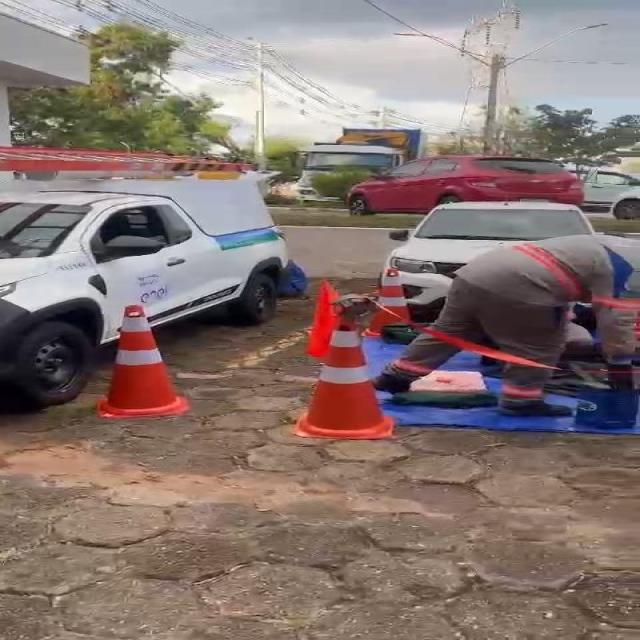Cone: (305, 314, 390, 442), (102, 302, 190, 418), (380, 262, 418, 334)
